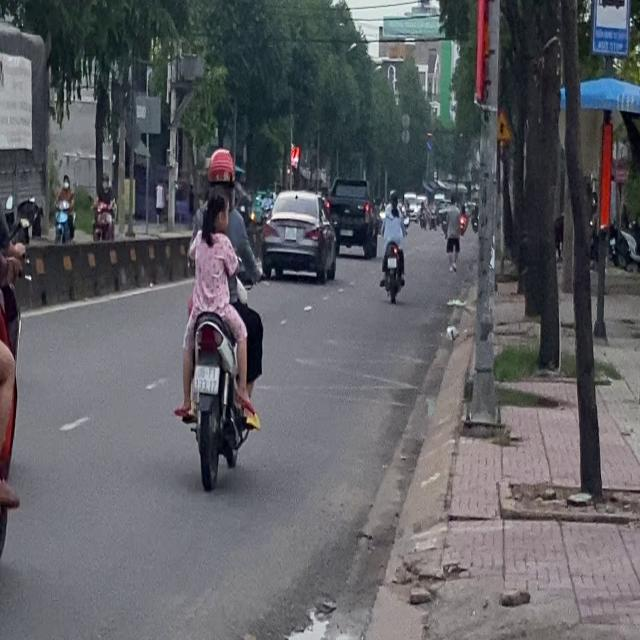helmet: (205, 146, 235, 194)
licenseplate: (172, 142, 265, 486)
motorcyclist: (202, 187, 230, 236)
nohelmet: (194, 364, 218, 392)
